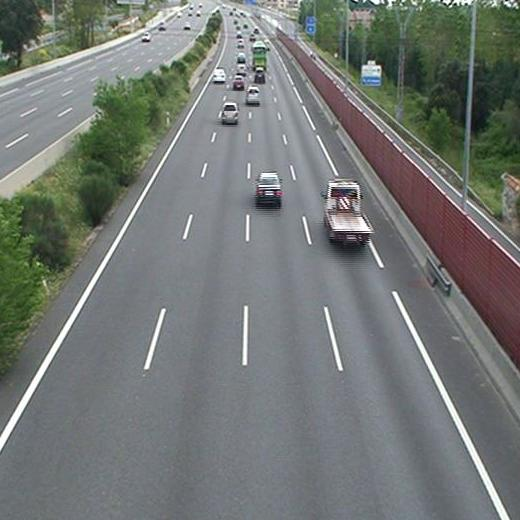bus: (252, 42, 267, 71)
car: (256, 174, 282, 200), (222, 103, 239, 123), (245, 87, 260, 103), (213, 69, 226, 82), (232, 76, 245, 88), (237, 63, 247, 74), (255, 69, 264, 80), (237, 52, 245, 61)
small-truck: (324, 182, 369, 242)
